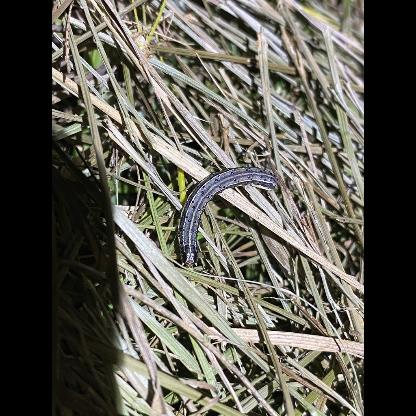Fall Armyworm Larvae: (172, 163, 286, 271)
